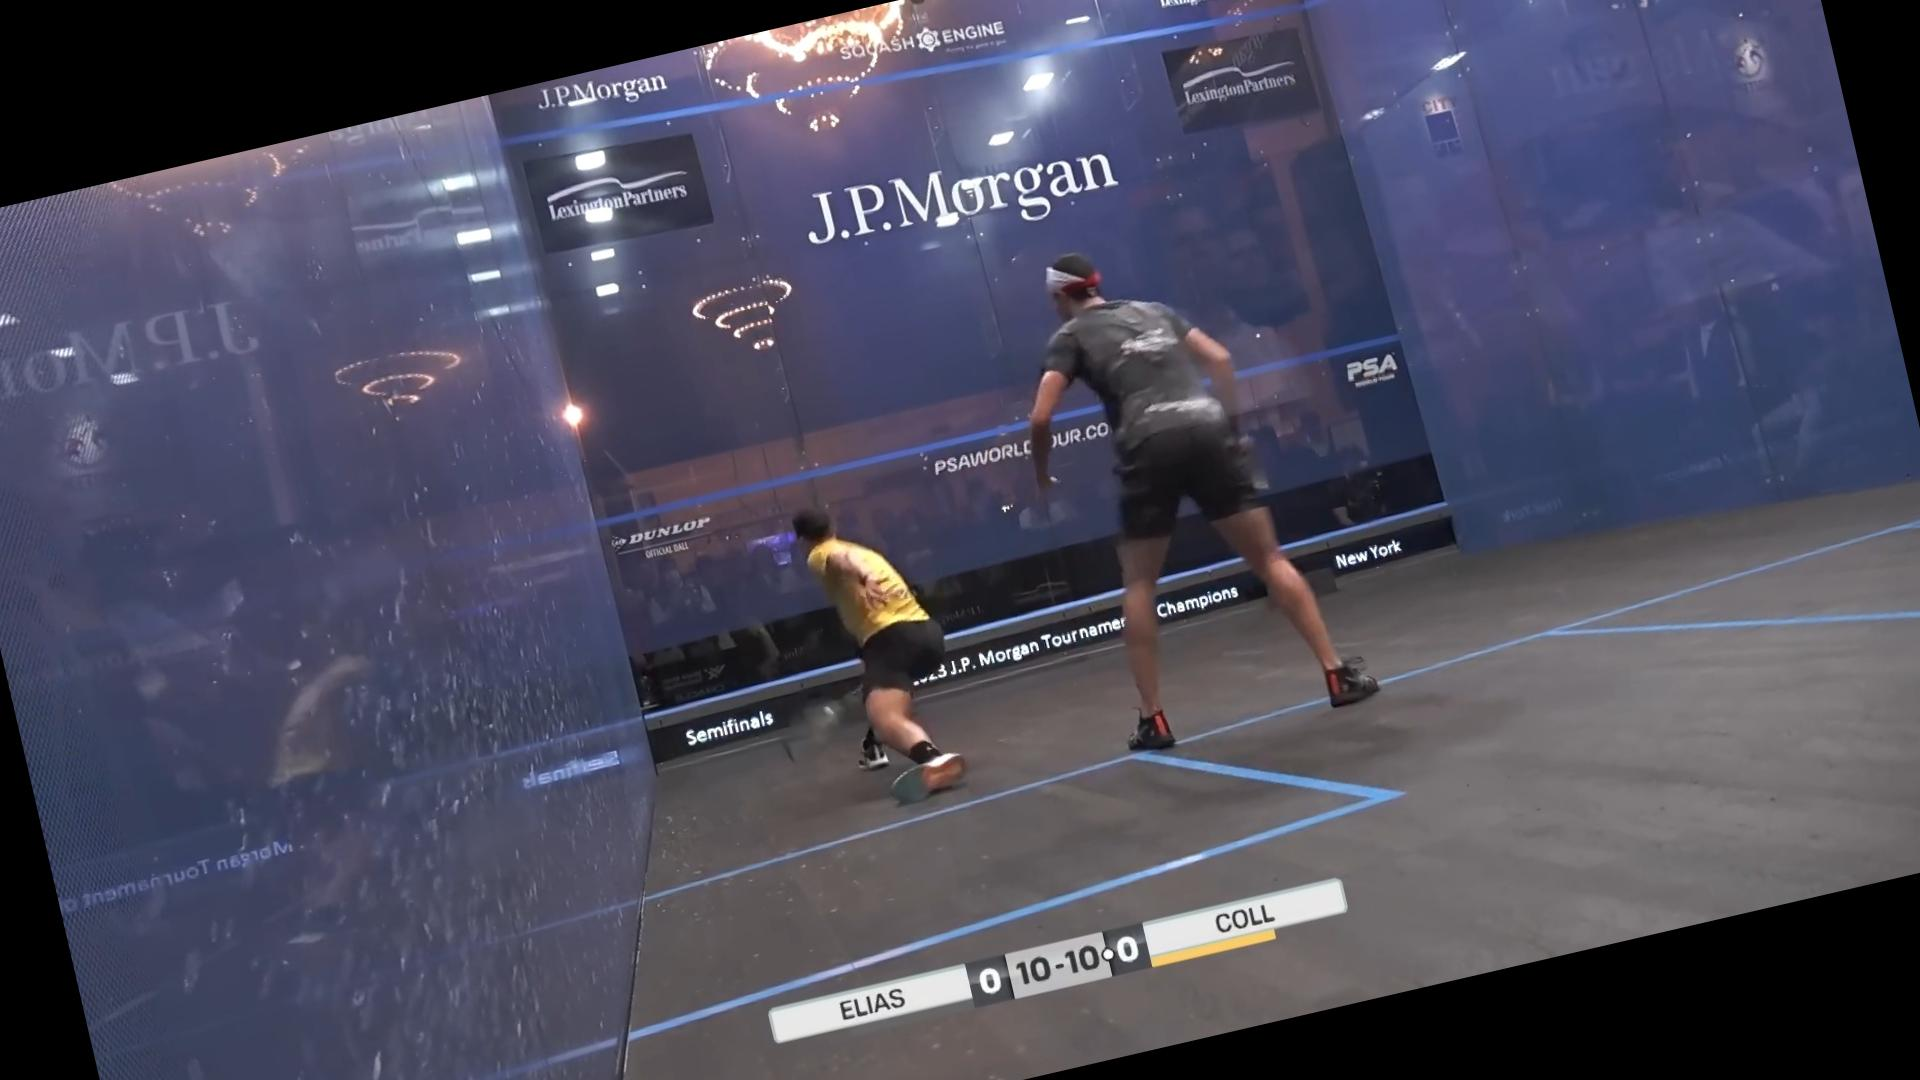Racket: (754, 673, 880, 775)
